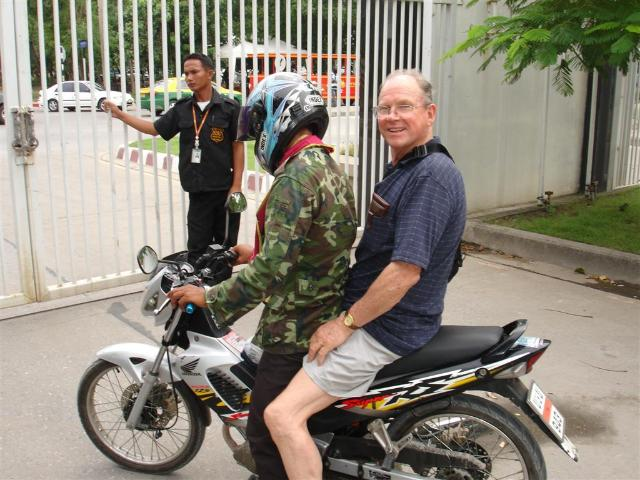helm: (237, 72, 330, 176)
motor: (78, 190, 576, 480)
non-helm: (374, 71, 437, 149)
